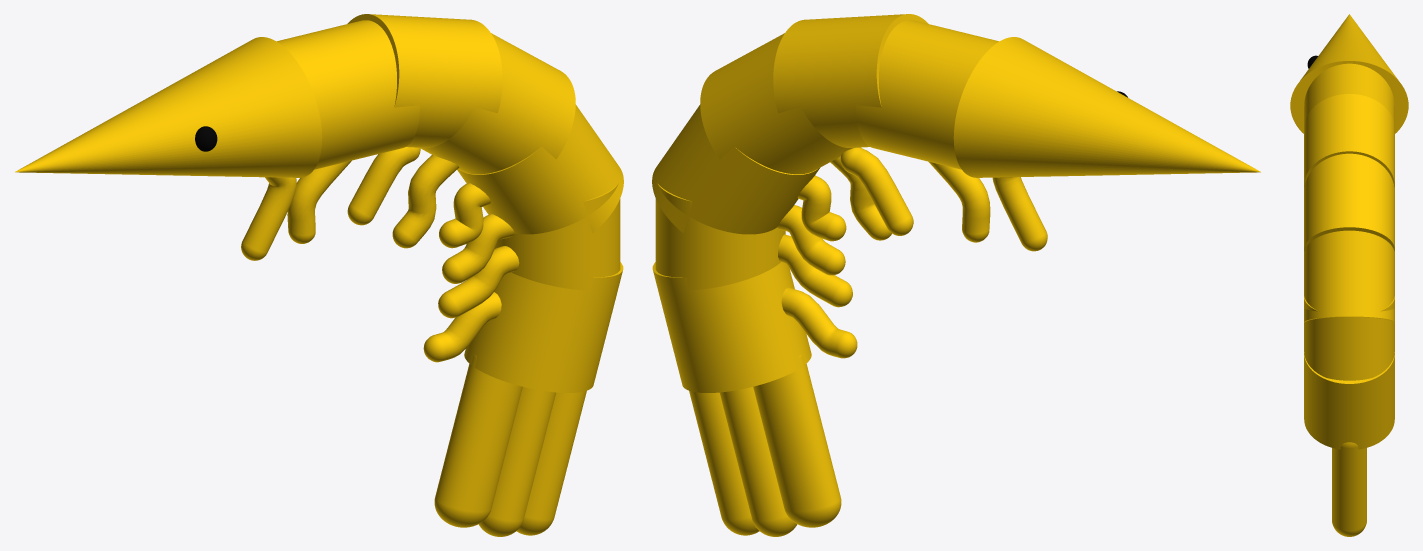
The model's file is Krill.fbx.
The picture shows the model from 3 angles, left to right: view 1: azimuth 30°, elevation 25°; view 2: azimuth 150°, elevation 25°; view 3: azimuth 270°, elevation 25°; orthographic projection. The views are drawn at different scales.
Parts seen in each view (by area): view 1: node_id134 (×10), node_id121 (×8); view 2: node_id134 (×10), node_id121 (×8); view 3: node_id134 (×8).
Part boxes in pixels (bbox=[...]): node_id134 (×10): bbox=[15, 14, 623, 536]; node_id121 (×8): bbox=[241, 147, 519, 362]; node_id134 (×10): bbox=[652, 14, 1260, 536]; node_id121 (×8): bbox=[777, 147, 1047, 358]; node_id134 (×8): bbox=[1290, 14, 1408, 536].
Bounding box in the file's own units: 0.2486 × 0.2181 × 0.0601.
